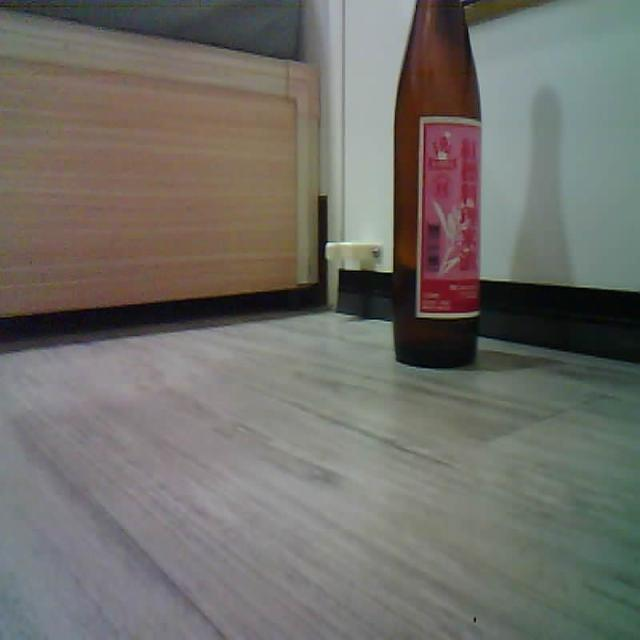bottle: (393, 0, 481, 367)
